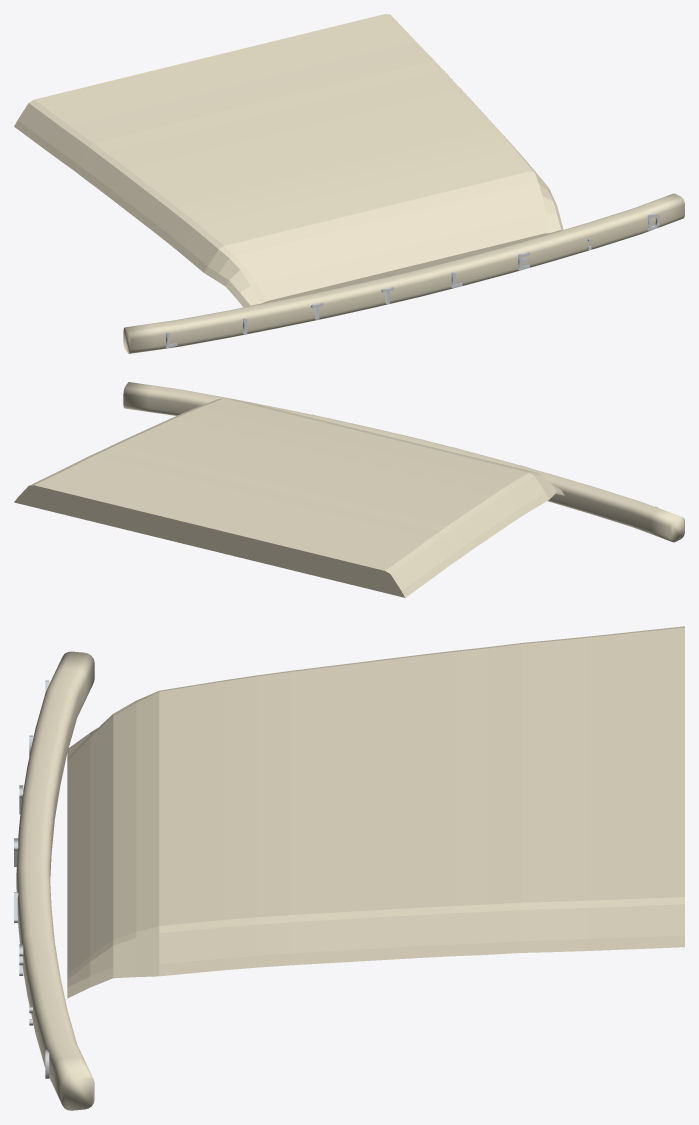
The model's file is hood_damd_little_d.glb.
3 views of the same model, one above another, from view 1: azimuth 30°, elevation 25°; view 2: azimuth 150°, elevation 25°; view 3: azimuth 270°, elevation 25° (orthographic). The views are drawn at different scales.
Parts seen in each view (by area): view 1: dome, lip.005; view 2: dome, lip.005; view 3: dome, lip.005.
Part boxes in pixels (x1,y1,x2,y2): dome: [14, 14, 563, 307]; lip.005: [123, 193, 684, 353]; dome: [14, 398, 564, 597]; lip.005: [123, 382, 684, 542]; dome: [67, 626, 684, 998]; lip.005: [16, 651, 94, 1110].
Bounding box in the file's own units: 1.21 × 0.1802 × 0.804.
